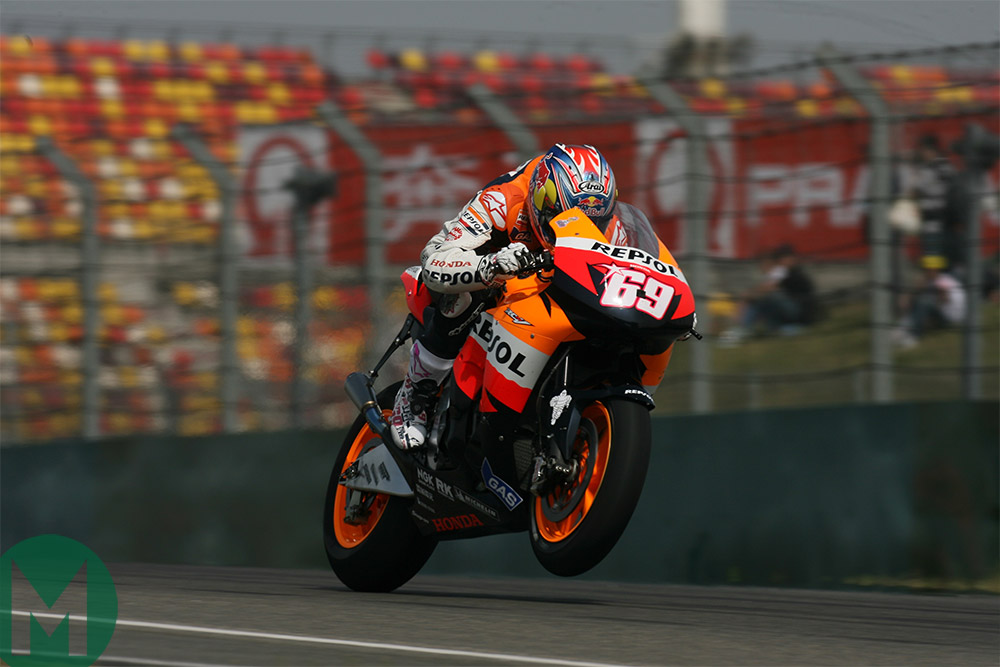helmet: (530, 133, 627, 203)
